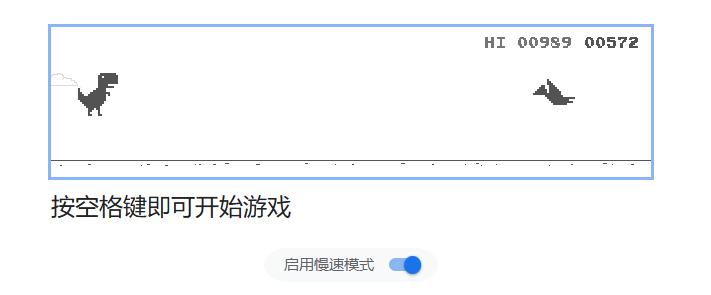bird: (532, 78, 576, 105)
dino: (76, 72, 118, 117)
